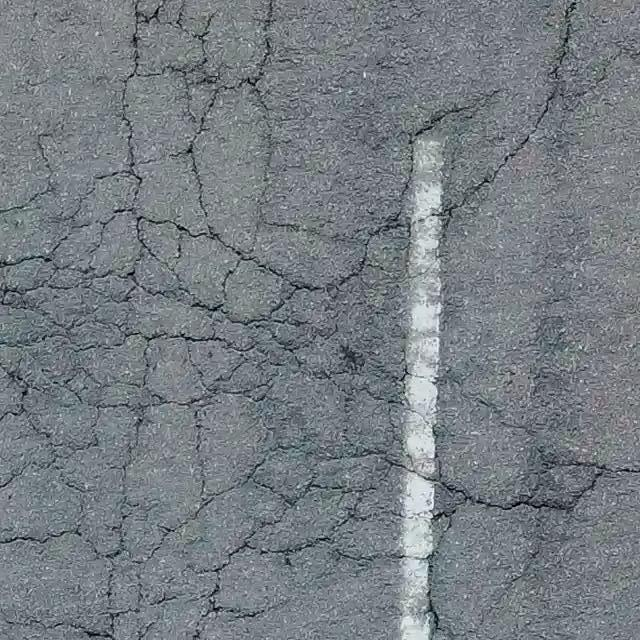GRIETA: (461, 5, 573, 204), (399, 91, 496, 206), (560, 46, 639, 99)
PIEL DE COCODRILO: (0, 1, 639, 639)
